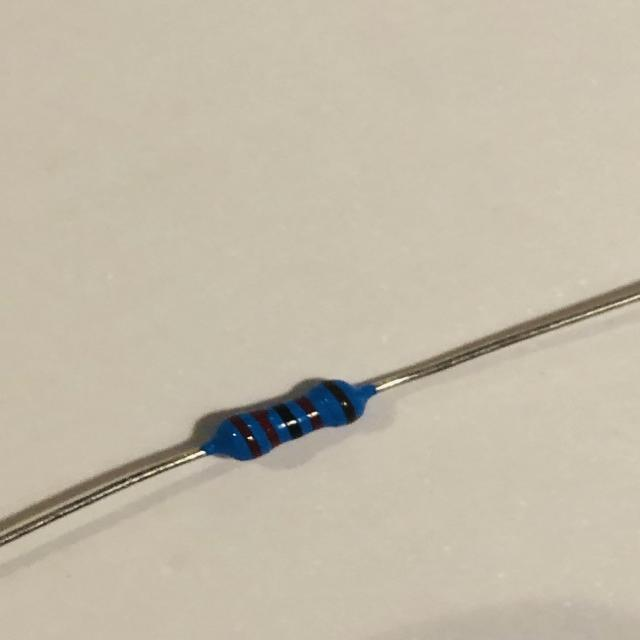Resistor: (201, 380, 377, 461)
black: (272, 402, 303, 439)
brown: (321, 380, 359, 421)
red: (228, 415, 262, 459), (250, 410, 281, 448), (293, 395, 324, 429)
